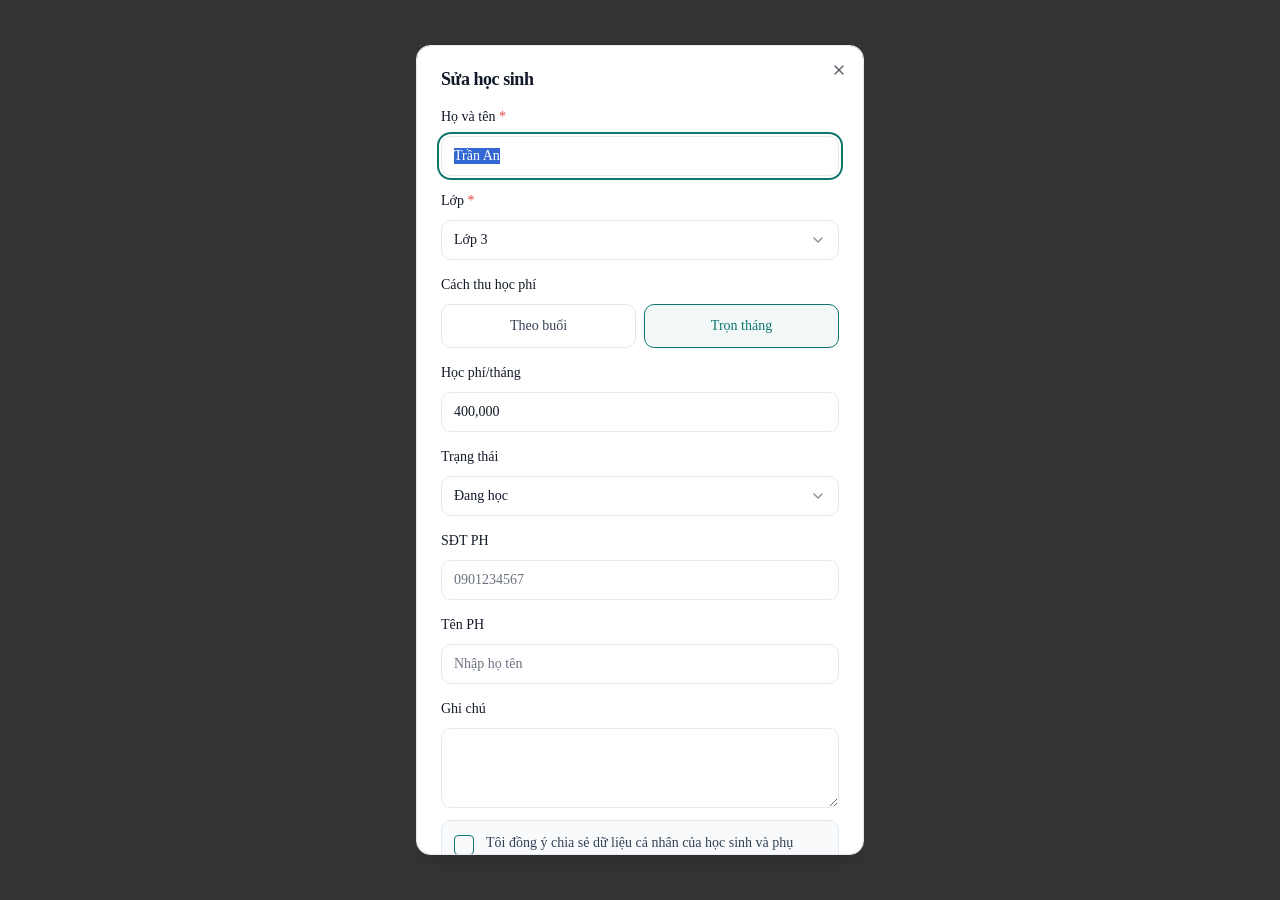
Test: StudentFormDialog: cách thu học phí (Plan T) › U11: form sửa HS đang học, đang trọn tháng 400k -> đổi ô Học phí/tháng thành 500k -> hiện ghi chú 'Áp dụng từ tháng...'
This screenshot has width=1280, height=900.
Expected: the text "Áp dụng từ tháng" is not shown
Replace the text in the field labelled "Học phí/tháng" with "500000" at (640, 412), box [441,392,839,432]
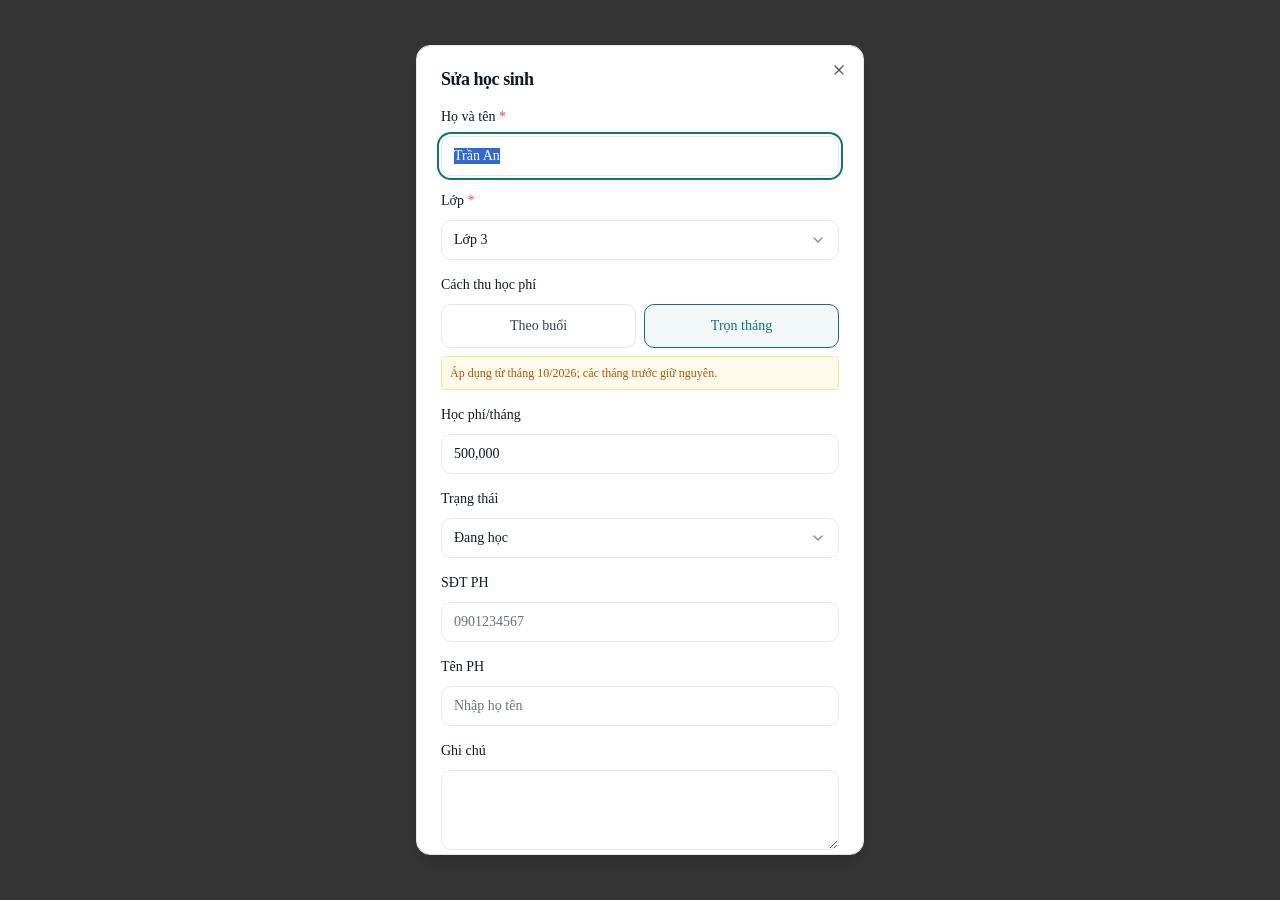
Expected: the text "Áp dụng từ tháng 10/2026; các tháng trước giữ nguyên." is shown, [441,356,839,390]
